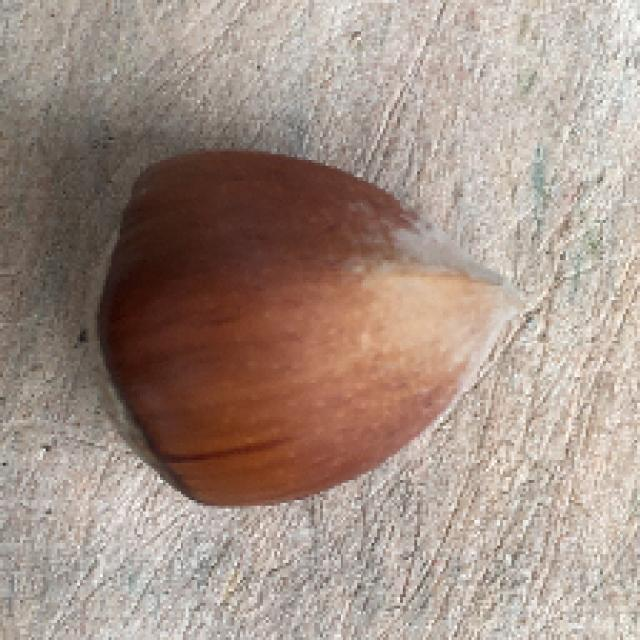qualityHazelnut: (66, 141, 531, 520)
